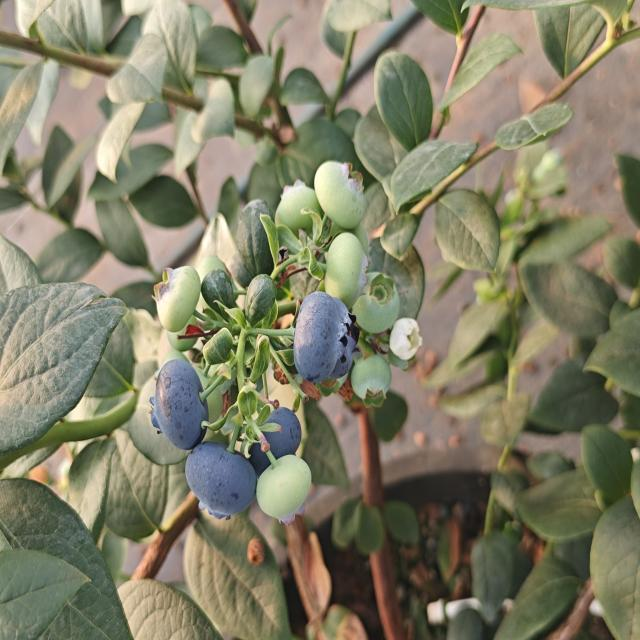ripe: (294, 289, 359, 381), (181, 442, 256, 520), (237, 404, 313, 478), (152, 356, 206, 444)
